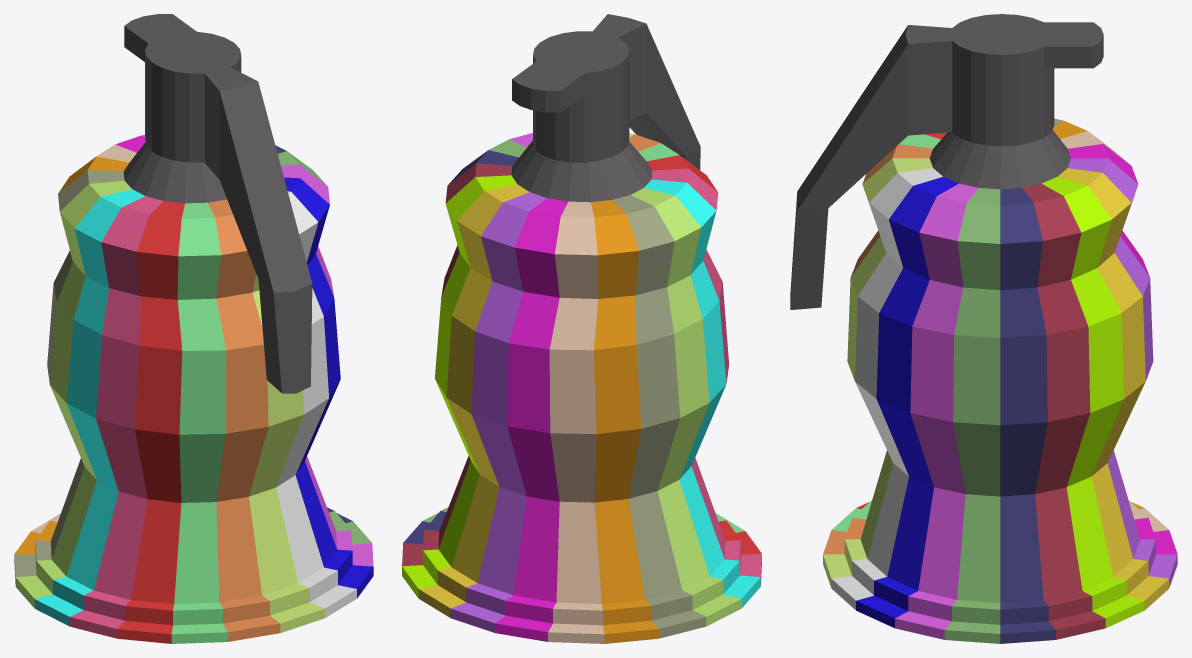
File: smokegrenade.fbx
3 renders of one model, left to right at view 1: azimuth 30°, elevation 25°; view 2: azimuth 150°, elevation 25°; view 3: azimuth 270°, elevation 25°, orthographic. The views are drawn at different scales.
Parts seen in each view (by area): view 1: Cylinder; view 2: Cylinder; view 3: Cylinder.
Part boxes in pixels (x1,y1,x2,y2): Cylinder: (14, 14, 373, 643); Cylinder: (402, 14, 761, 643); Cylinder: (790, 14, 1177, 643).
Size of the model in its own units: 1.81 by 2.8 by 1.86.
